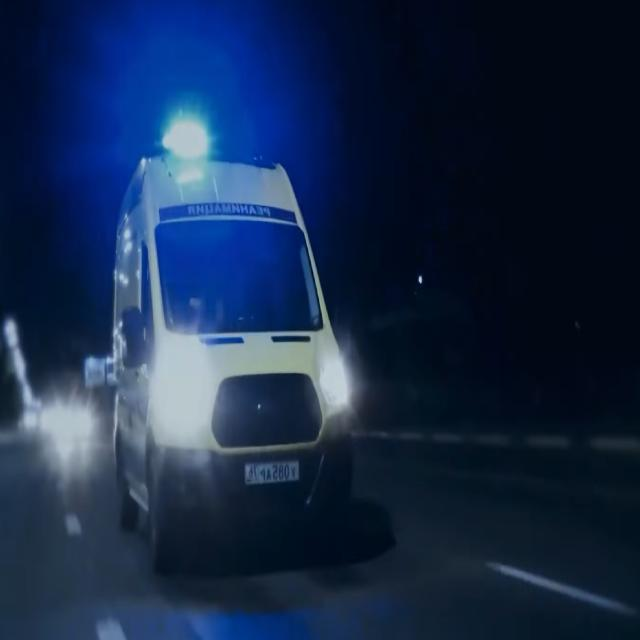intensive care unit: (115, 118, 356, 579)
